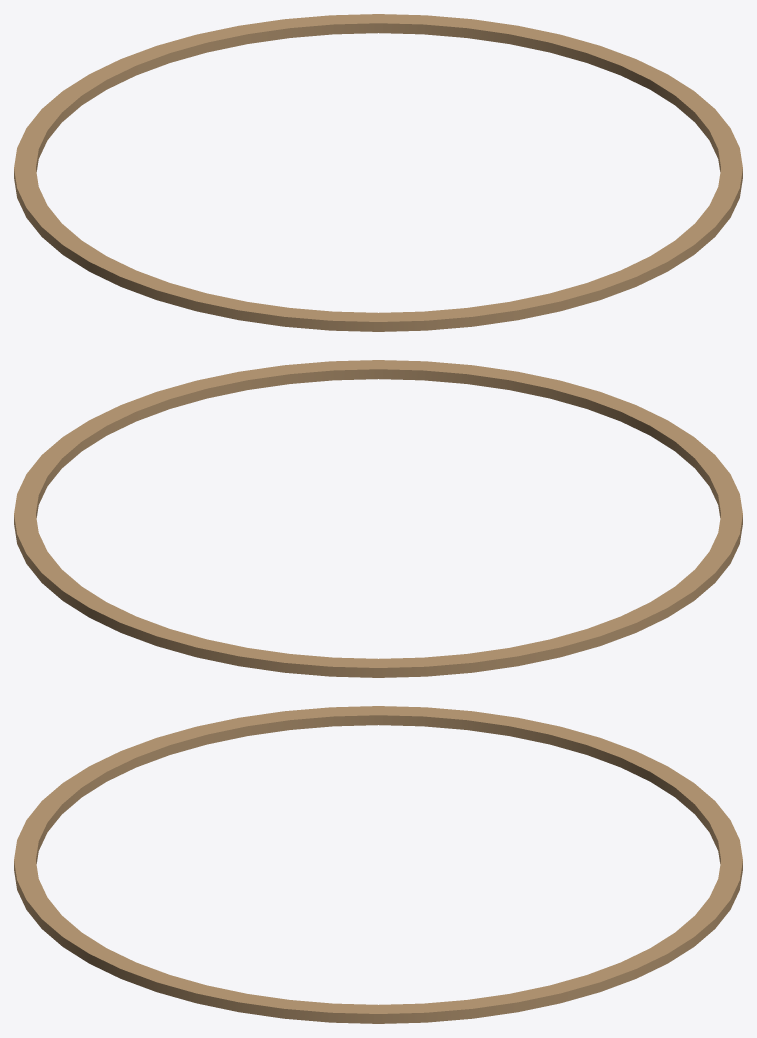
3 renders of one model, top to bottom at view 1: azimuth 30°, elevation 25°; view 2: azimuth 150°, elevation 25°; view 3: azimuth 270°, elevation 25°, orthographic.
Visible parts, largest first — view 1: Trim; view 2: Trim; view 3: Trim.
Part boxes in pixels (left/top/right/bottom): Trim: left=14, top=14, right=742, bottom=331; Trim: left=14, top=360, right=742, bottom=677; Trim: left=14, top=706, right=742, bottom=1023.
Size of the model in its own units: 1 by 0.015 by 1.
